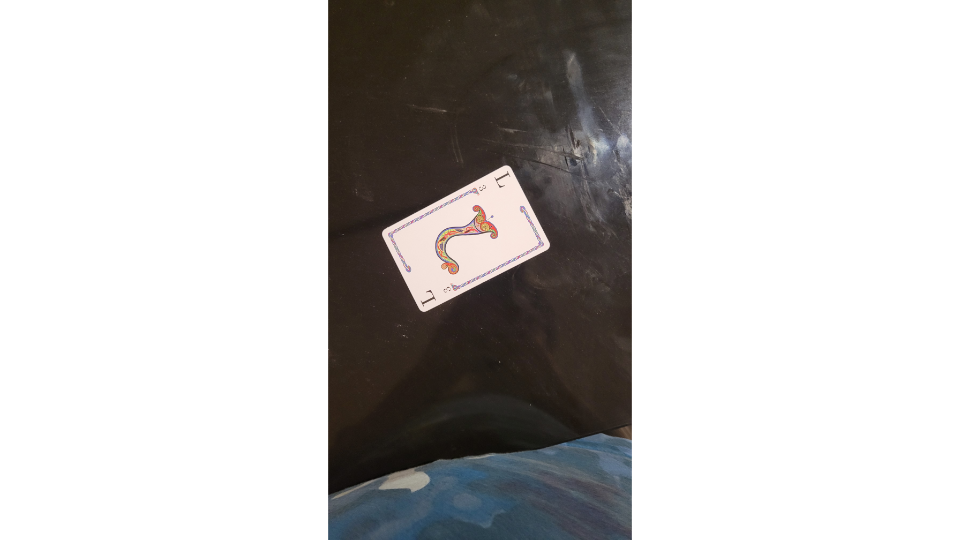L: (378, 161, 553, 314)
